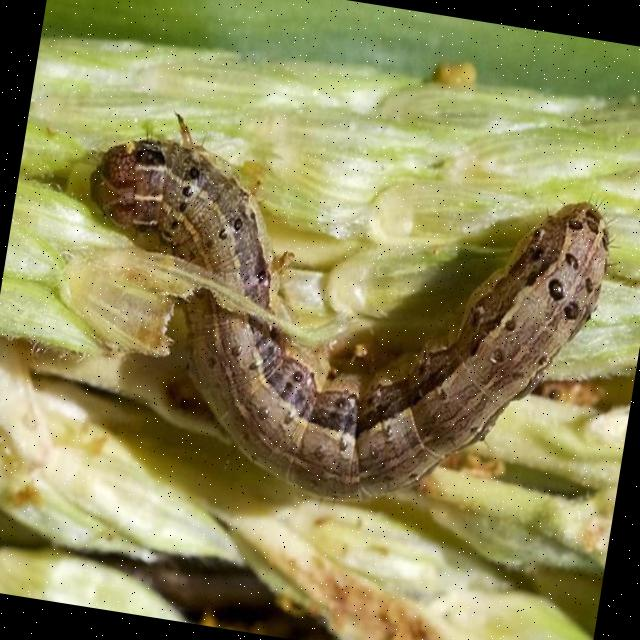worm: (48, 102, 629, 547)
